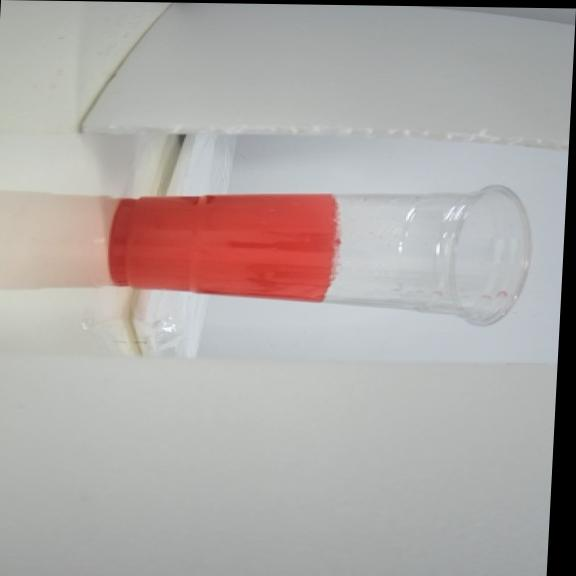Plastik: (109, 185, 530, 326)
